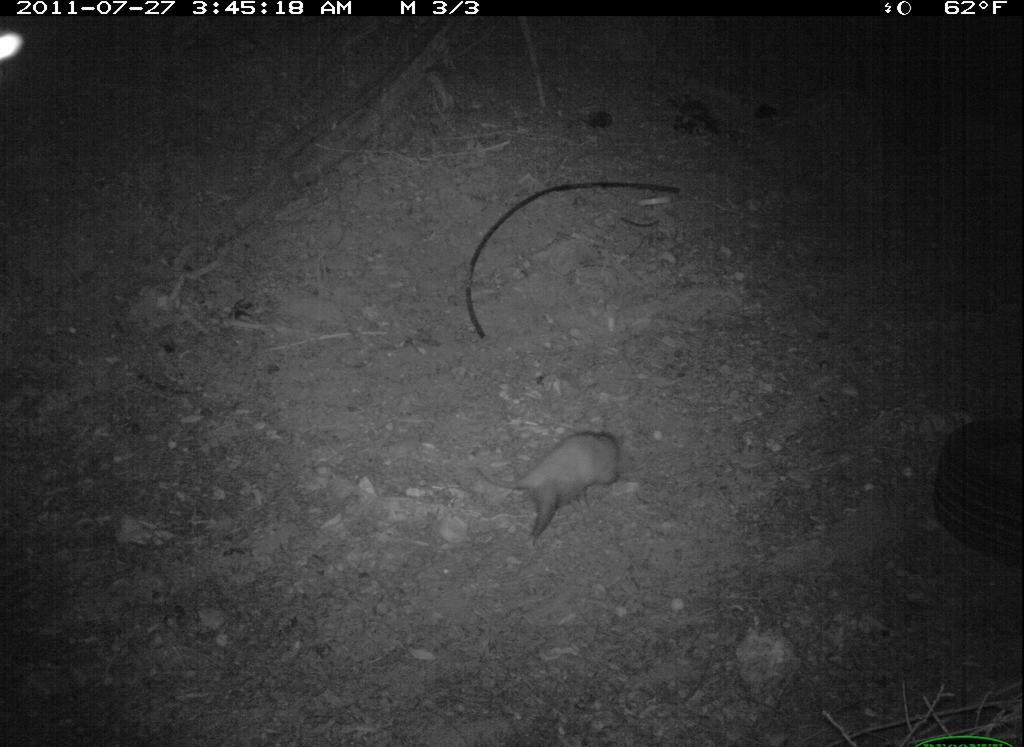opossum: (470, 422, 658, 551)
